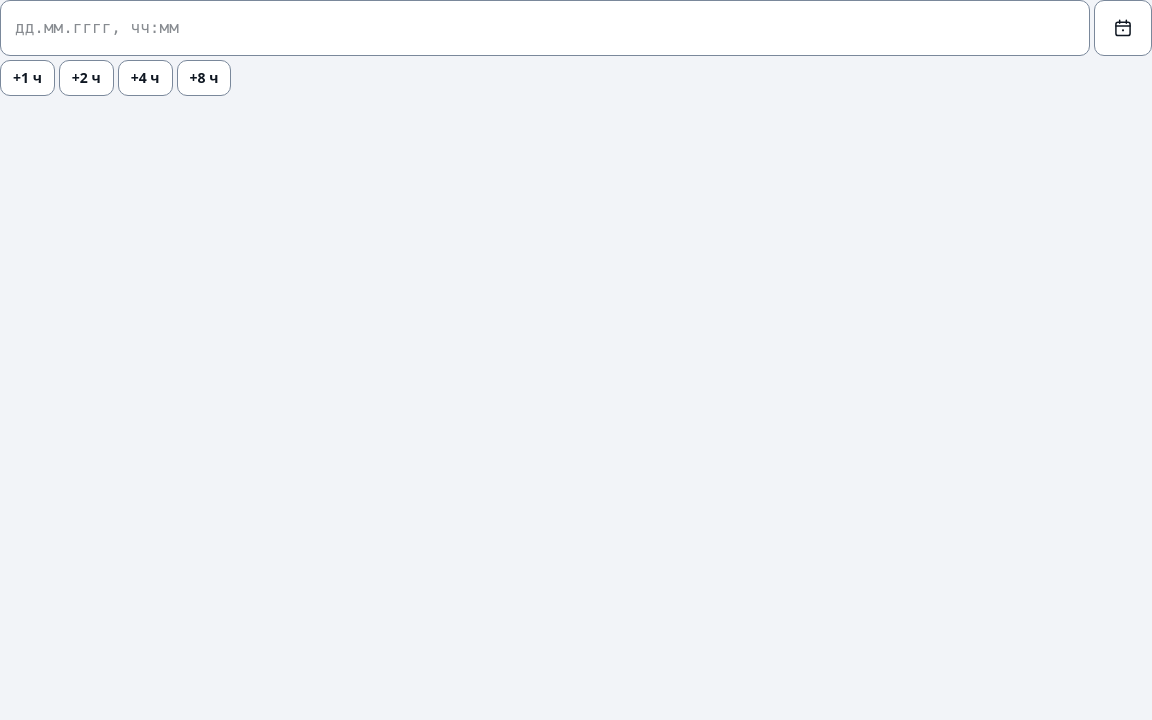
Test: DateTimeField interactions › cancels the calendar without changing the date
The width and height of the screenshot is (1152, 720).
Click the button named "Выбрать в календаре": {"x": 1123, "y": 28} 1094,0 -> 1151,56
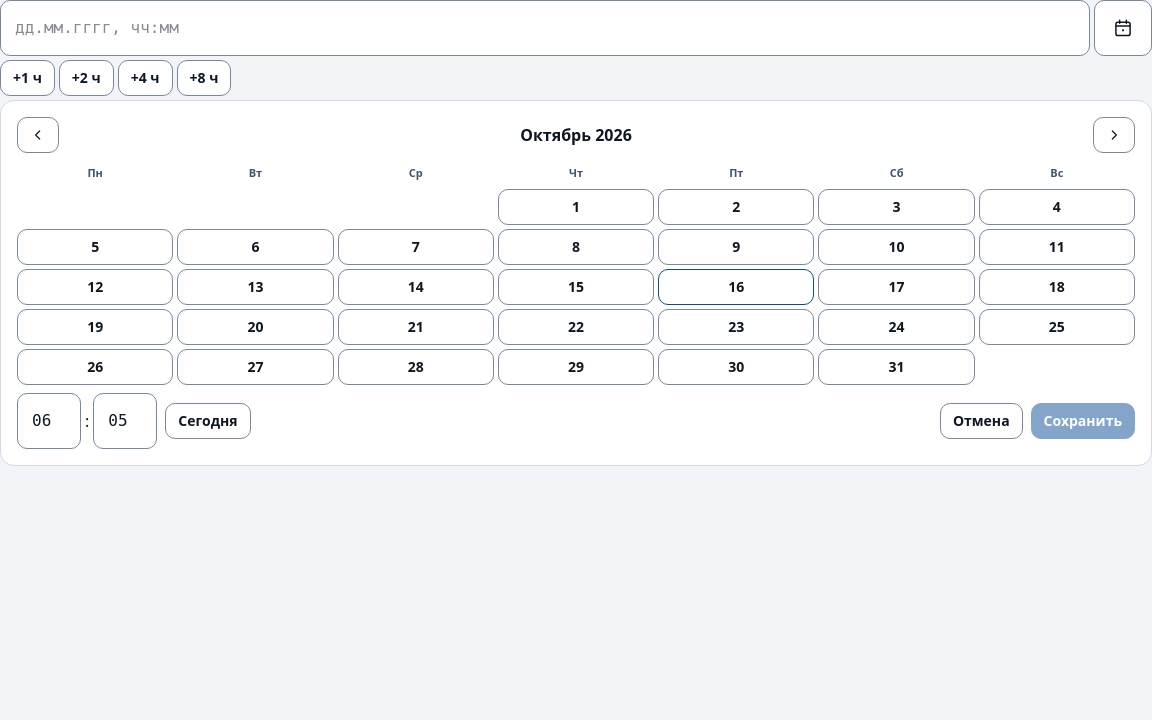
Click the button "Отмена": {"x": 981, "y": 421} 940,403 -> 1023,439
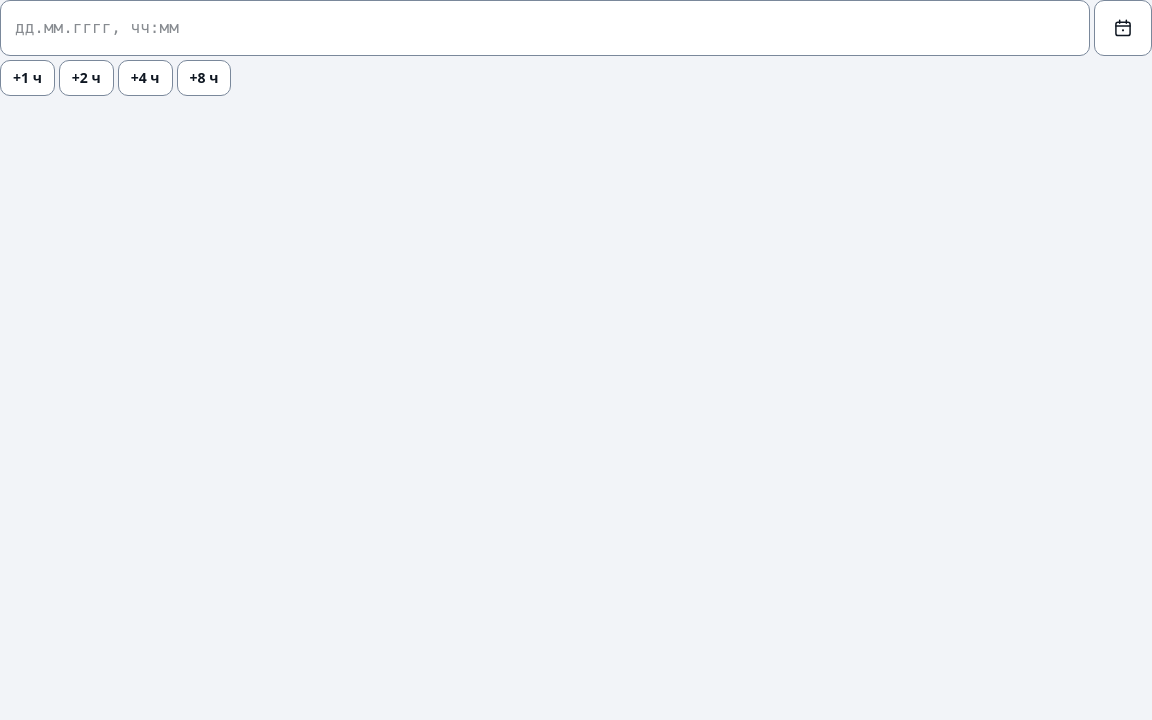
Check: the dialog is gone
